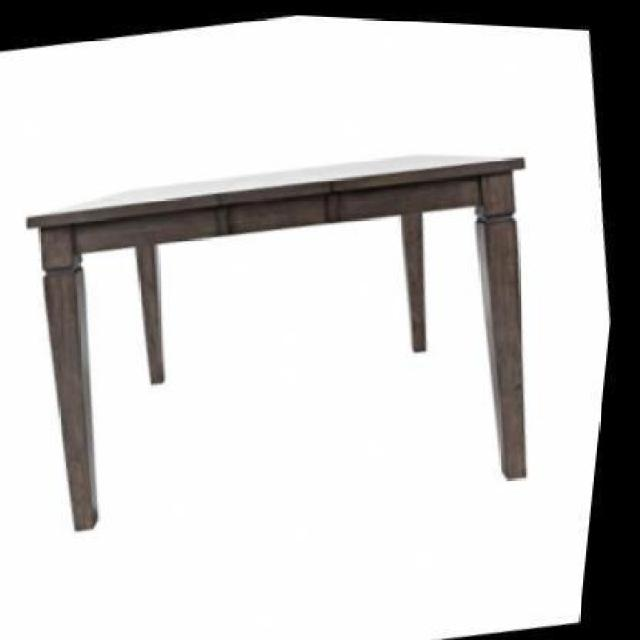tables: (25, 151, 529, 531)
